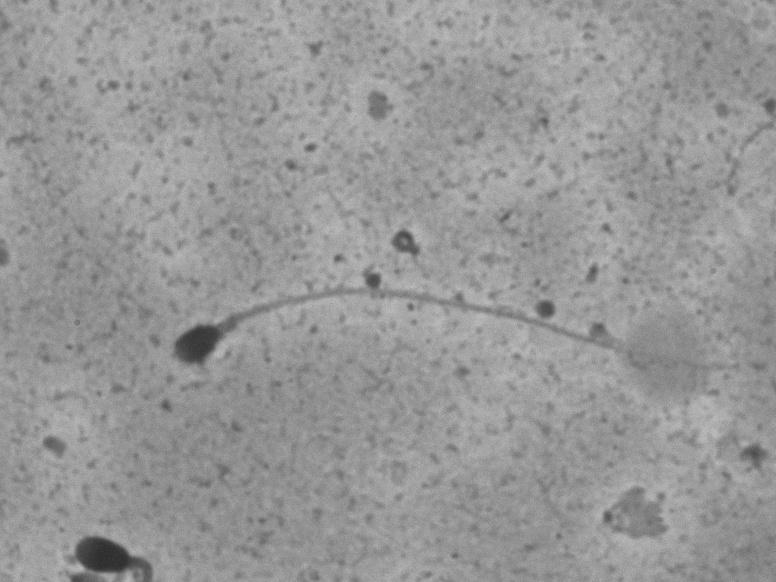Normal: (160, 279, 741, 414)
